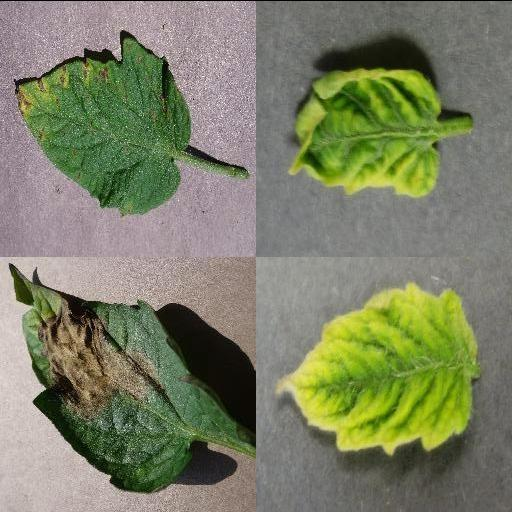Late Blight: (8, 263, 256, 495)
Septoria: (16, 36, 194, 214)
Yellow Leaf Curl Virus: (275, 280, 479, 454), (288, 66, 442, 198)
